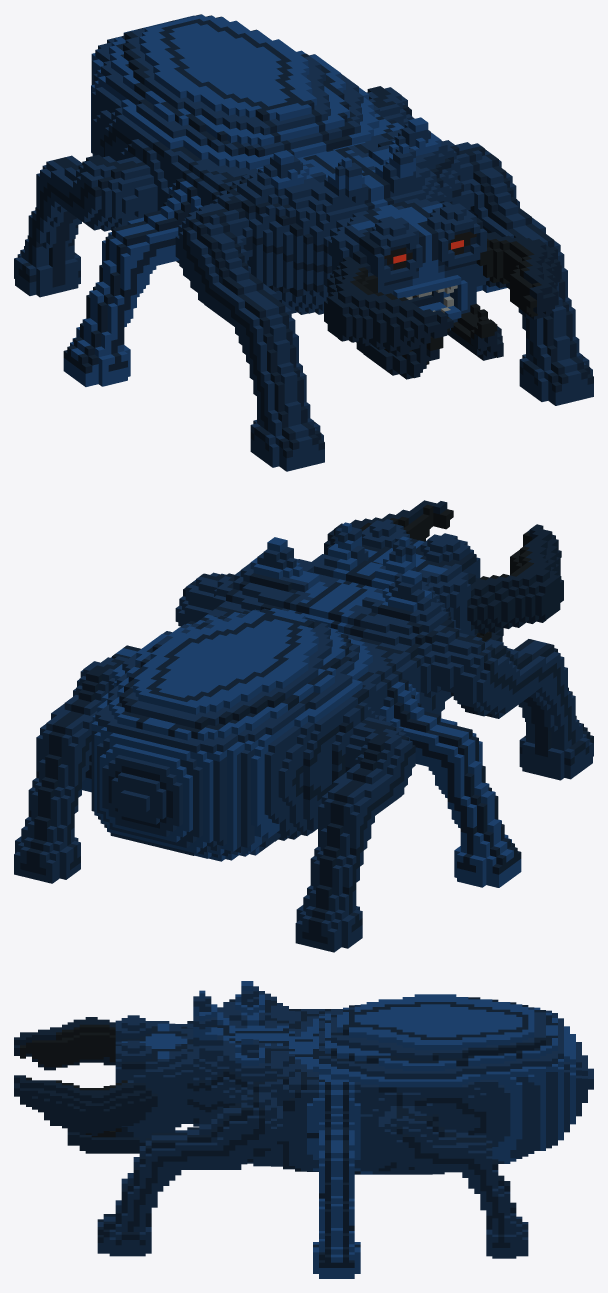
File: beetle_attack_blue_v1.0-0.obj
3 views of the same model, one above another, from view 1: azimuth 30°, elevation 25°; view 2: azimuth 150°, elevation 25°; view 3: azimuth 270°, elevation 25° (orthographic). The views are drawn at different scales.
Parts seen in each view (by area): view 1: beetle_attack_blue_v1; view 2: beetle_attack_blue_v1; view 3: beetle_attack_blue_v1.
Boxes of the visible parts, box(x1,y1,x2,y2) form: beetle_attack_blue_v1: box(14, 14, 593, 471); beetle_attack_blue_v1: box(14, 500, 593, 952); beetle_attack_blue_v1: box(14, 981, 593, 1278).
Size of the model in its own units: 6.8 by 3.5 by 9.7.
Materials: 1 (1 with a texture image).
